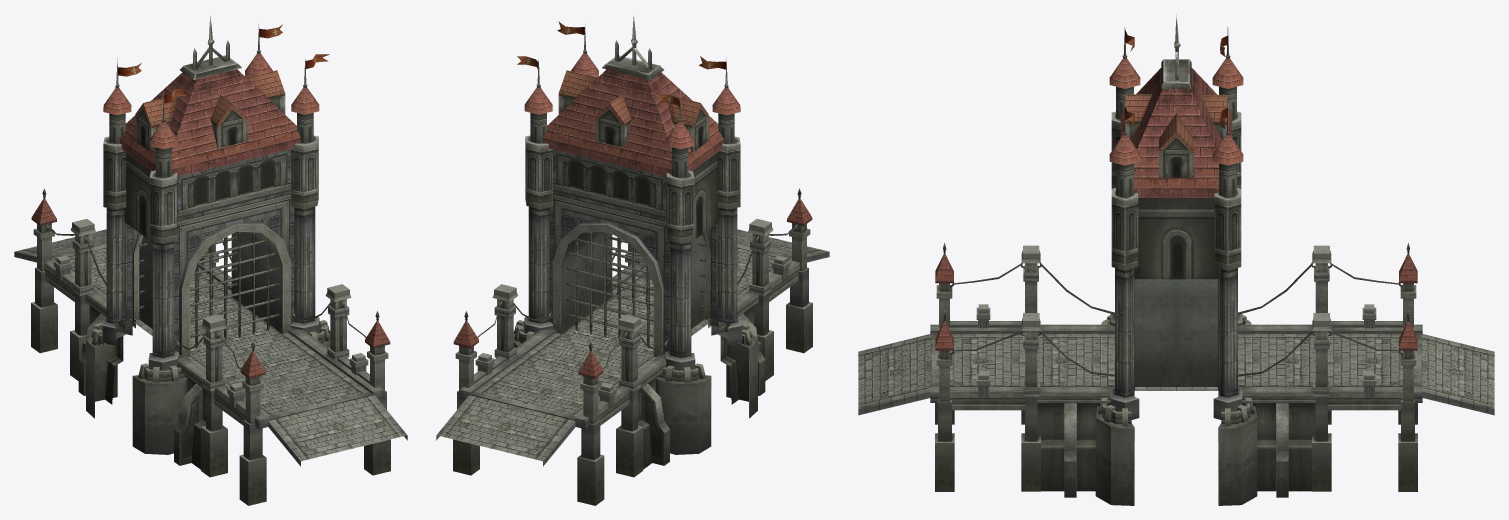
File: SC_guowangchengbao_16.FBX
3 renders of one model, left to right at view 1: azimuth 30°, elevation 25°; view 2: azimuth 150°, elevation 25°; view 3: azimuth 270°, elevation 25°, orthographic. The views are drawn at different scales.
Visible parts, largest first — view 1: SC_guowangchengbao_16, door; view 2: SC_guowangchengbao_16, door; view 3: SC_guowangchengbao_16.
Boxes of the visible parts, x1,y1,x2,y2 form: SC_guowangchengbao_16: [14, 16, 407, 505]; door: [138, 231, 279, 350]; SC_guowangchengbao_16: [436, 15, 829, 505]; door: [565, 231, 705, 350]; SC_guowangchengbao_16: [858, 14, 1494, 505].
Size of the model in its own units: 1268 by 2464 by 3237.
